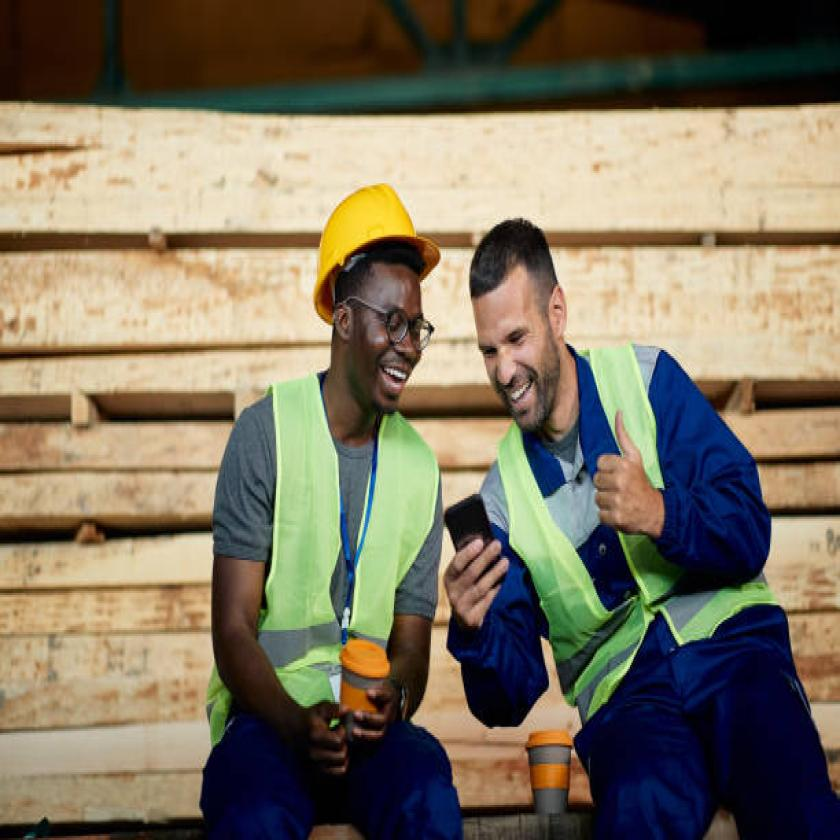Con_casco: (288, 150, 457, 427)
Sin_casco: (467, 199, 584, 448)
